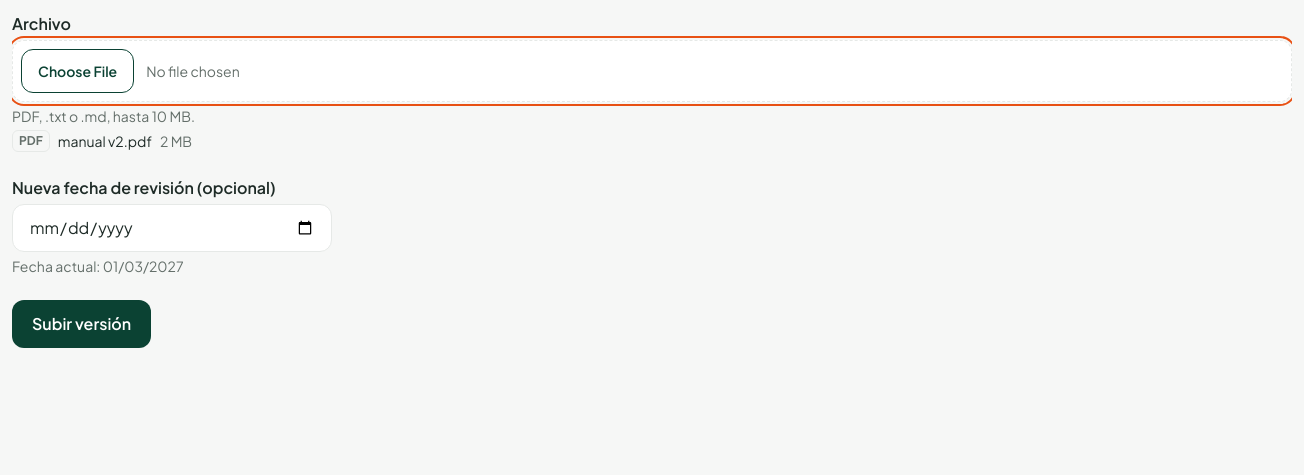
NewVersionForm (spec 003, R6 a R9; plan 003, 6.3) › errores de la API: el archivo sigue elegido › 409 DUPLICATE: el mensaje y el enlace al documento existente
Earlier steps of the test are not shown.
Click the button "Subir versión" at [82, 324], box [12,300,151,348]
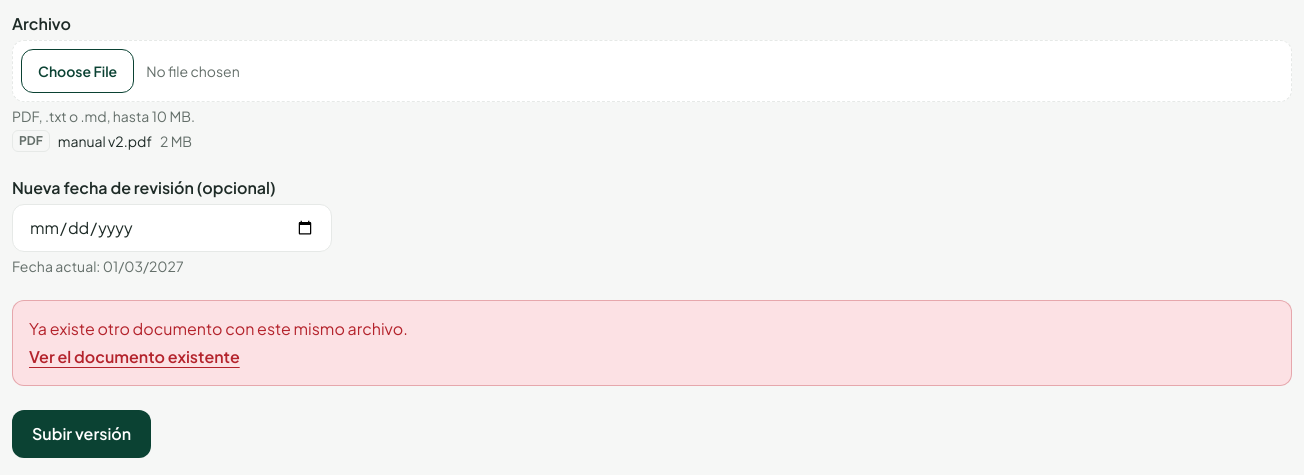
Expected: the message shows "Ya existe otro documento con este mismo archivo.", [29,318,408,339]
